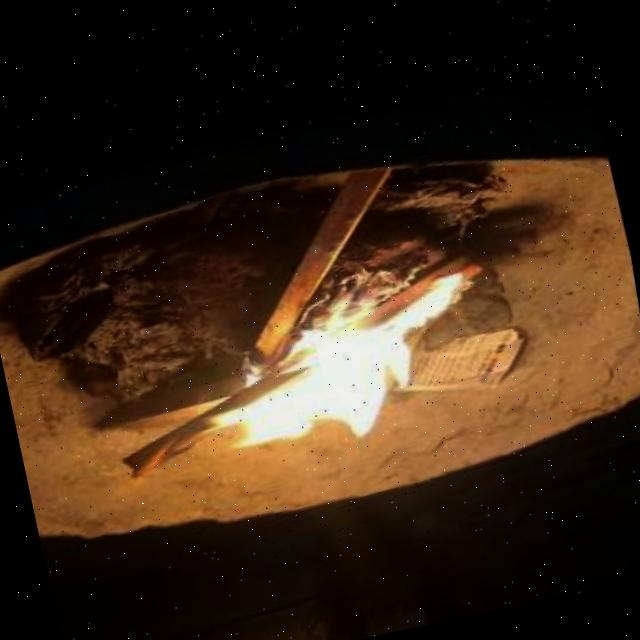fire: (165, 251, 519, 492)
